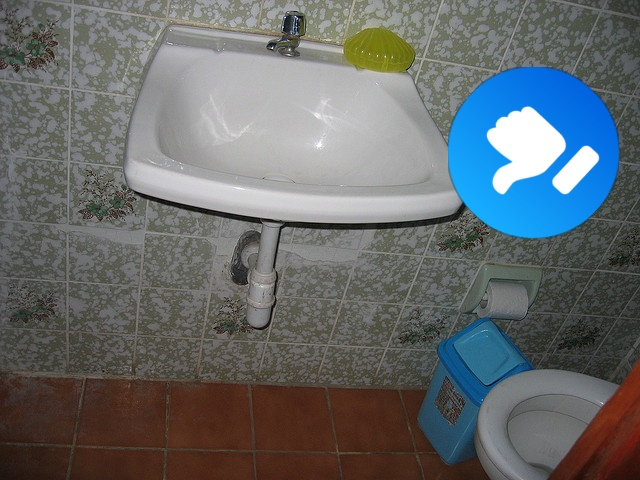like: (448, 67, 619, 238)
